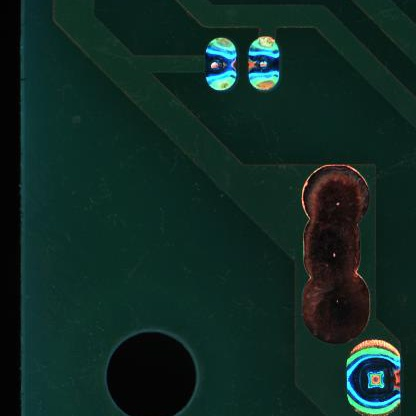spot: (345, 339, 403, 416), (247, 36, 281, 93), (205, 36, 237, 93)
